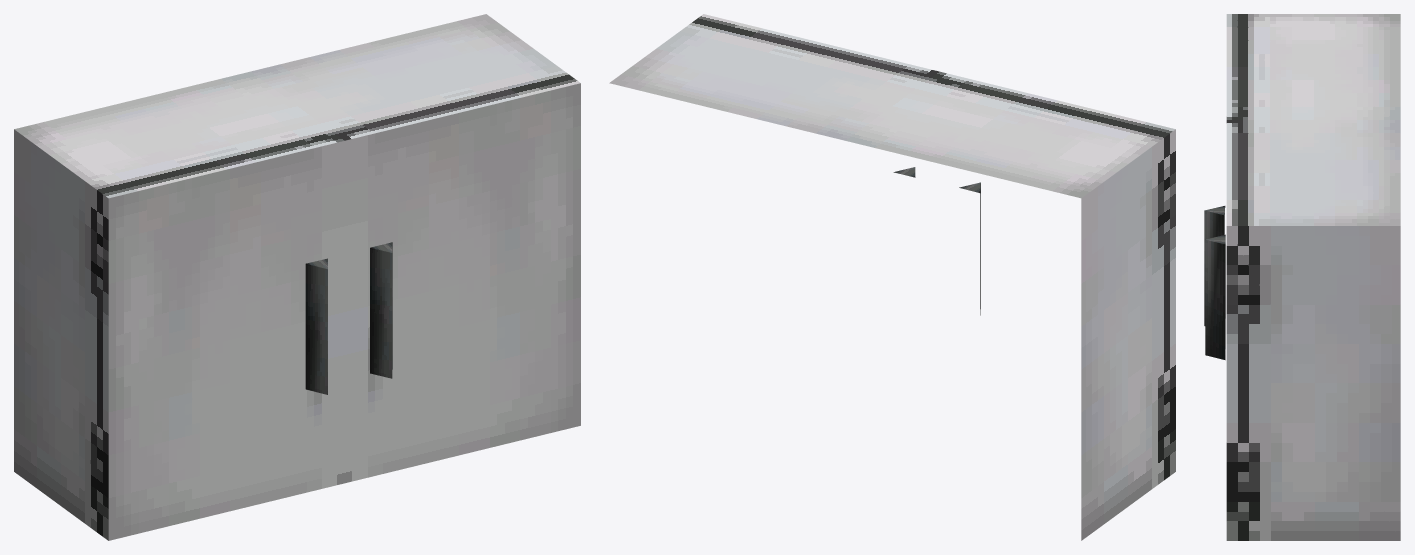
Rendered from Cupboard_White.glb.
3 renders of one model, left to right at view 1: azimuth 30°, elevation 25°; view 2: azimuth 150°, elevation 25°; view 3: azimuth 270°, elevation 25°, orthographic. The views are drawn at different scales.
Visible parts, largest first — view 1: CUPBOARD_WHITE; view 2: CUPBOARD_WHITE; view 3: CUPBOARD_WHITE.
Boxes of the visible parts, x1,y1,x2,y2 form: CUPBOARD_WHITE: [14, 14, 580, 540]; CUPBOARD_WHITE: [609, 14, 1175, 540]; CUPBOARD_WHITE: [1204, 14, 1400, 540].
Bounding box in the file's own units: 1.01 × 0.7 × 0.395.
Materials: 1 (1 with a texture image).
